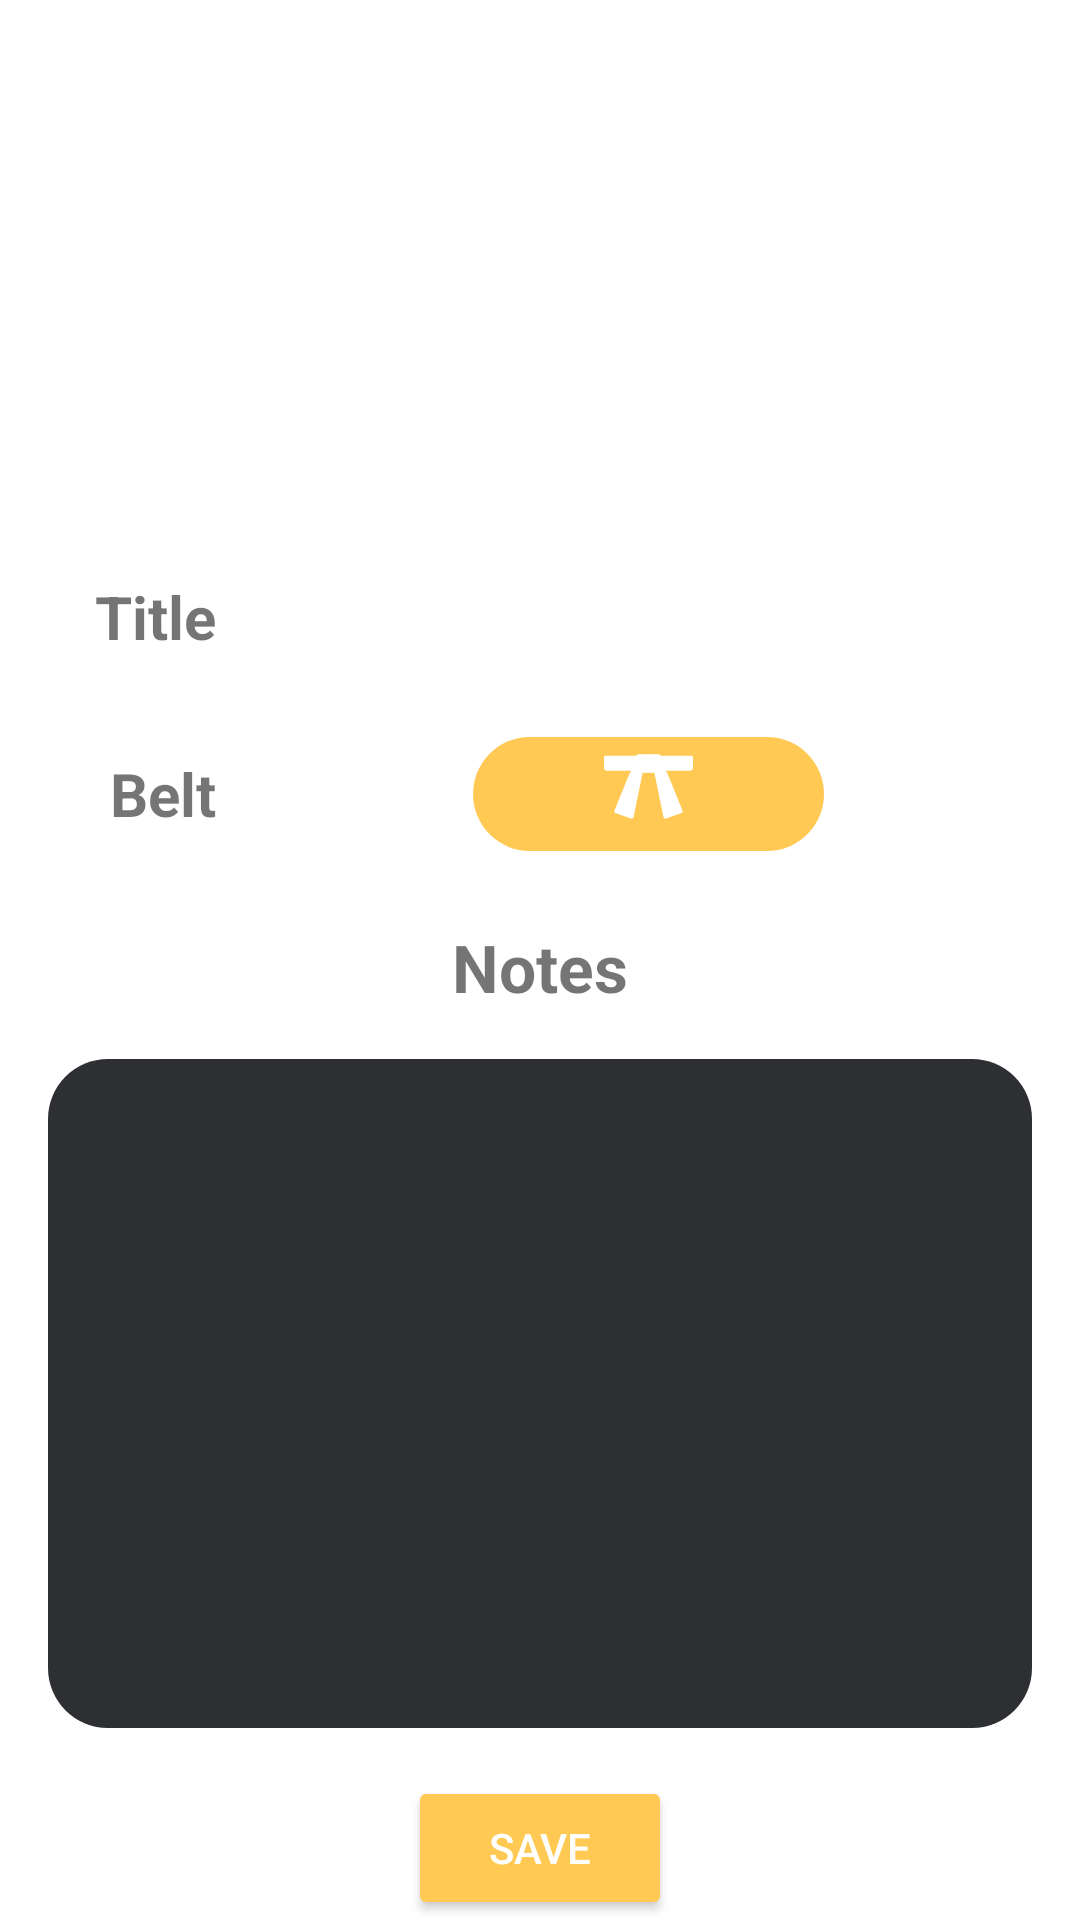

Icons on this 1080×1920 Android screen, each with its box as bbox(x1, y1, x2, y2):
belt: bbox(473, 737, 824, 851)
